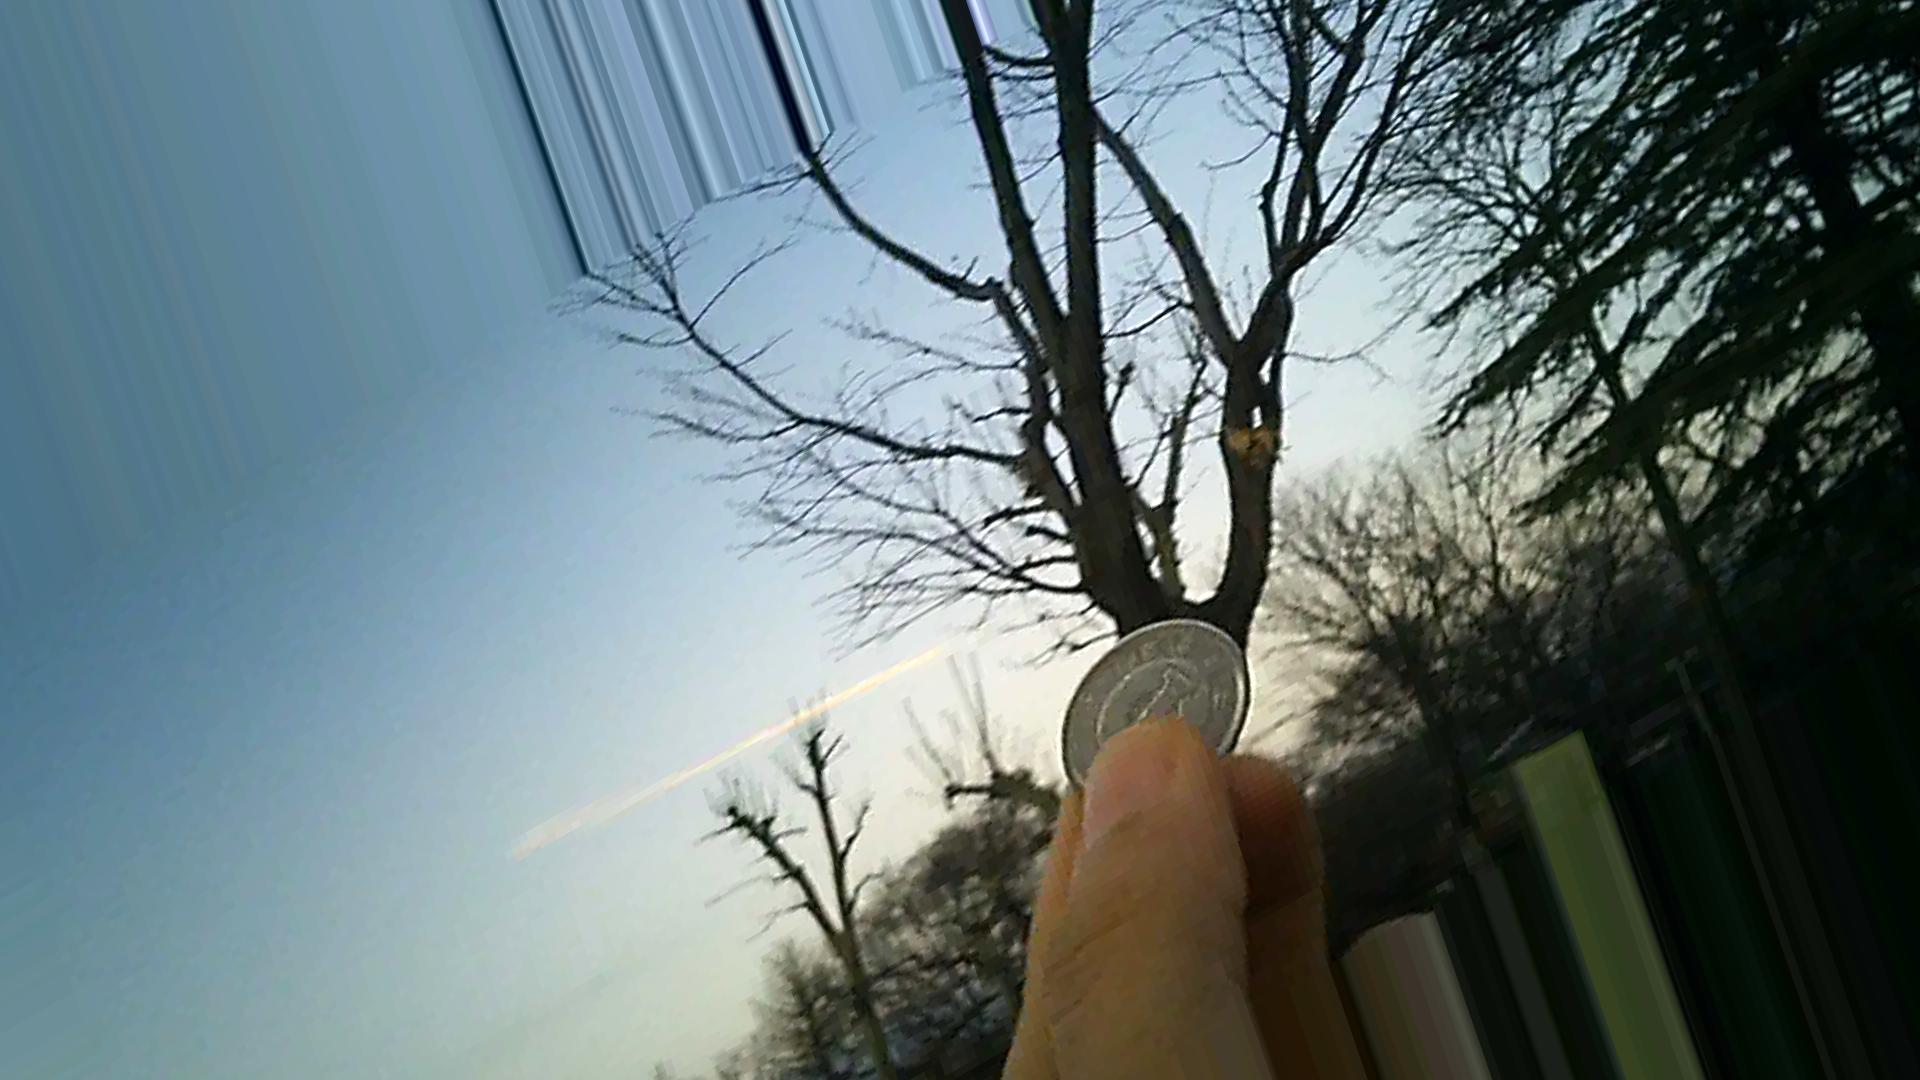1 Yen: (1029, 612, 1238, 815)
